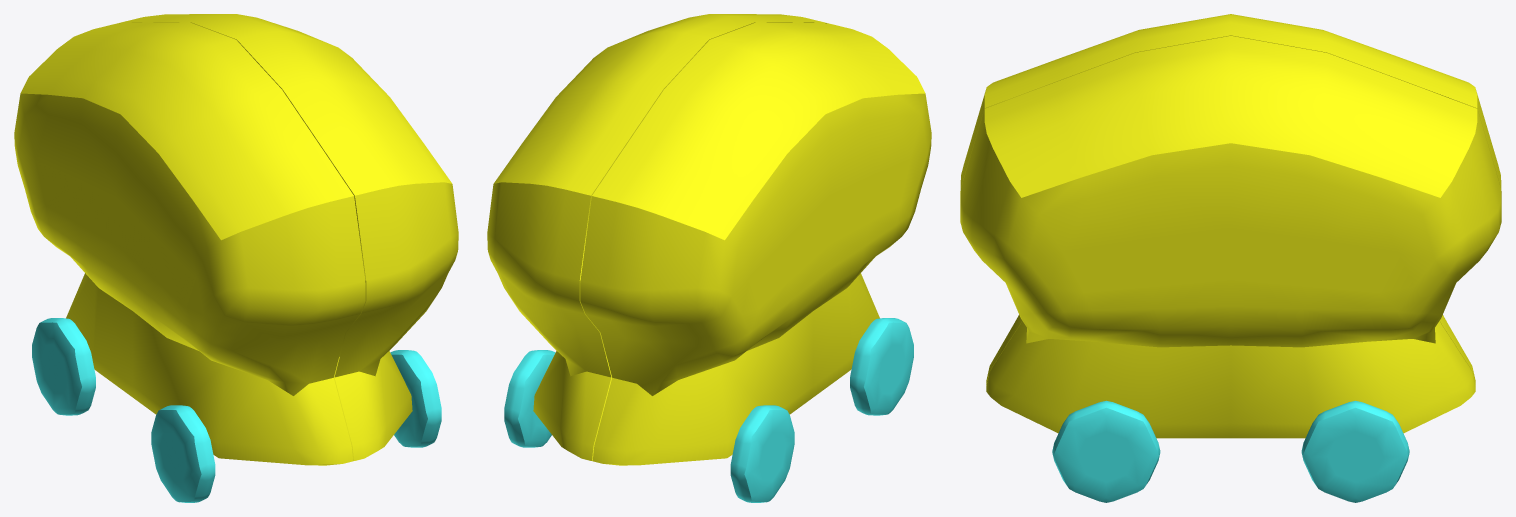
The model's file is BrokenRobot.fbx.
The picture shows the model from 3 angles, left to right: view 1: azimuth 30°, elevation 25°; view 2: azimuth 150°, elevation 25°; view 3: azimuth 270°, elevation 25°; orthographic projection. The views are drawn at different scales.
Parts seen in each view (by area): view 1: Body, Wheel; view 2: Body, Wheel; view 3: Body, Wheel.
Part boxes in pixels (x1,y1,x2,y2): Body: (14, 14, 458, 465); Wheel: (32, 318, 441, 502); Body: (487, 14, 931, 465); Wheel: (504, 318, 913, 502); Body: (960, 14, 1501, 438); Wheel: (1052, 400, 1409, 502).
Size of the model in its own units: 11.72 by 17.75 by 21.37.
